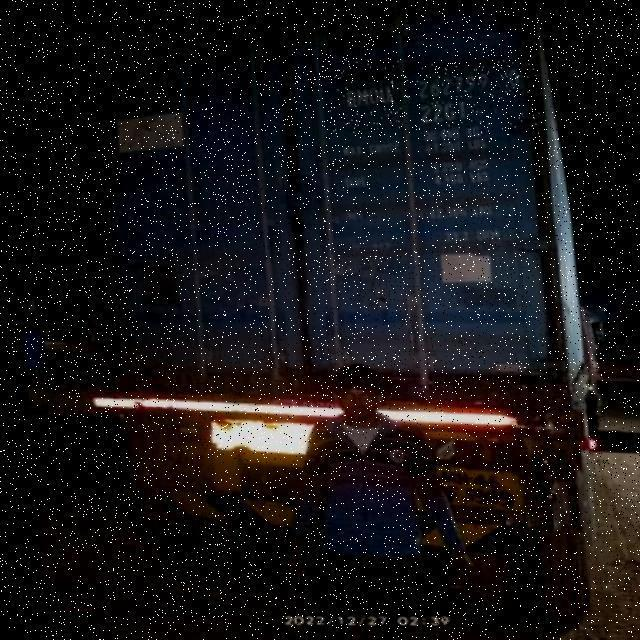container_number_h: (323, 54, 540, 134)
